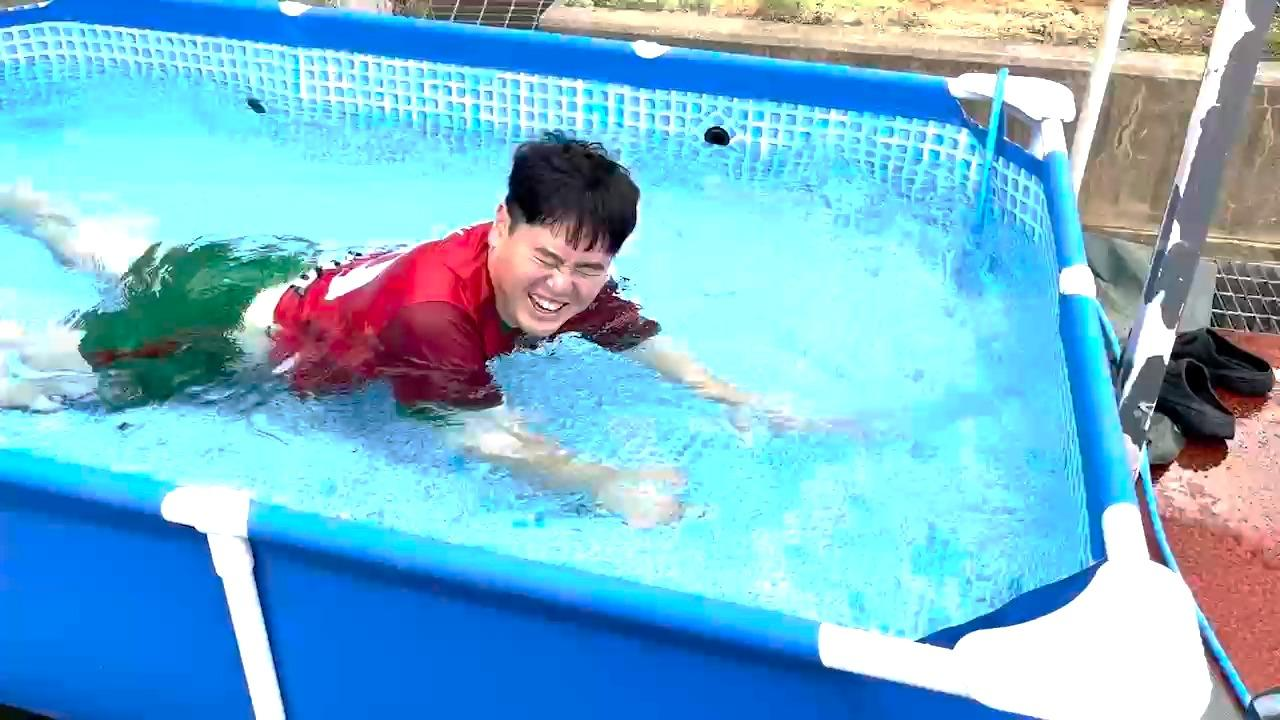Swimming: (0, 109, 942, 533)
